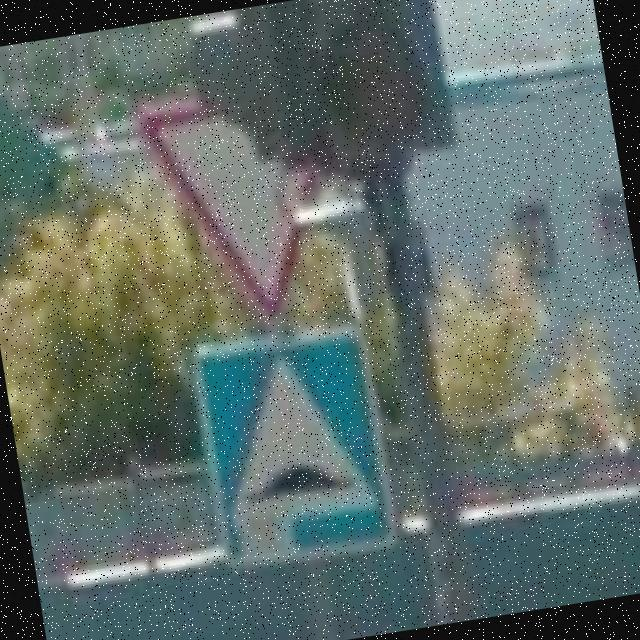Ustap pierwszenstwa: (133, 80, 350, 336)
